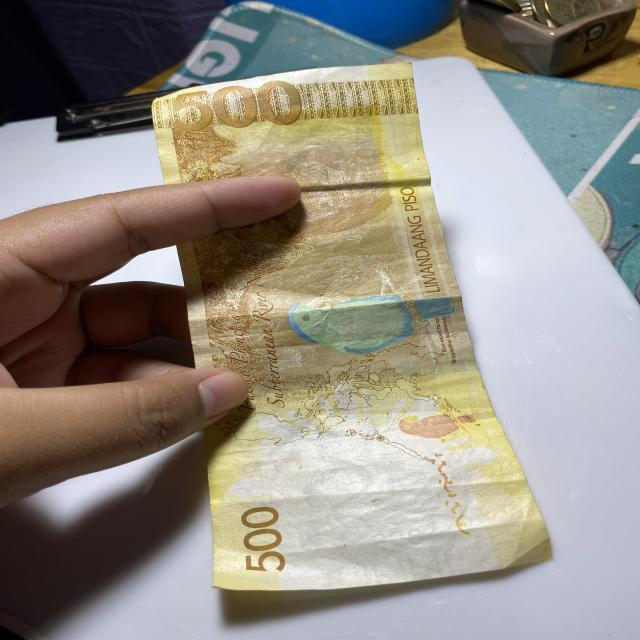500_big_parrot: (288, 290, 459, 354)
500_parrot_watermark: (396, 408, 479, 439)
value_watermark: (371, 529, 431, 550)
